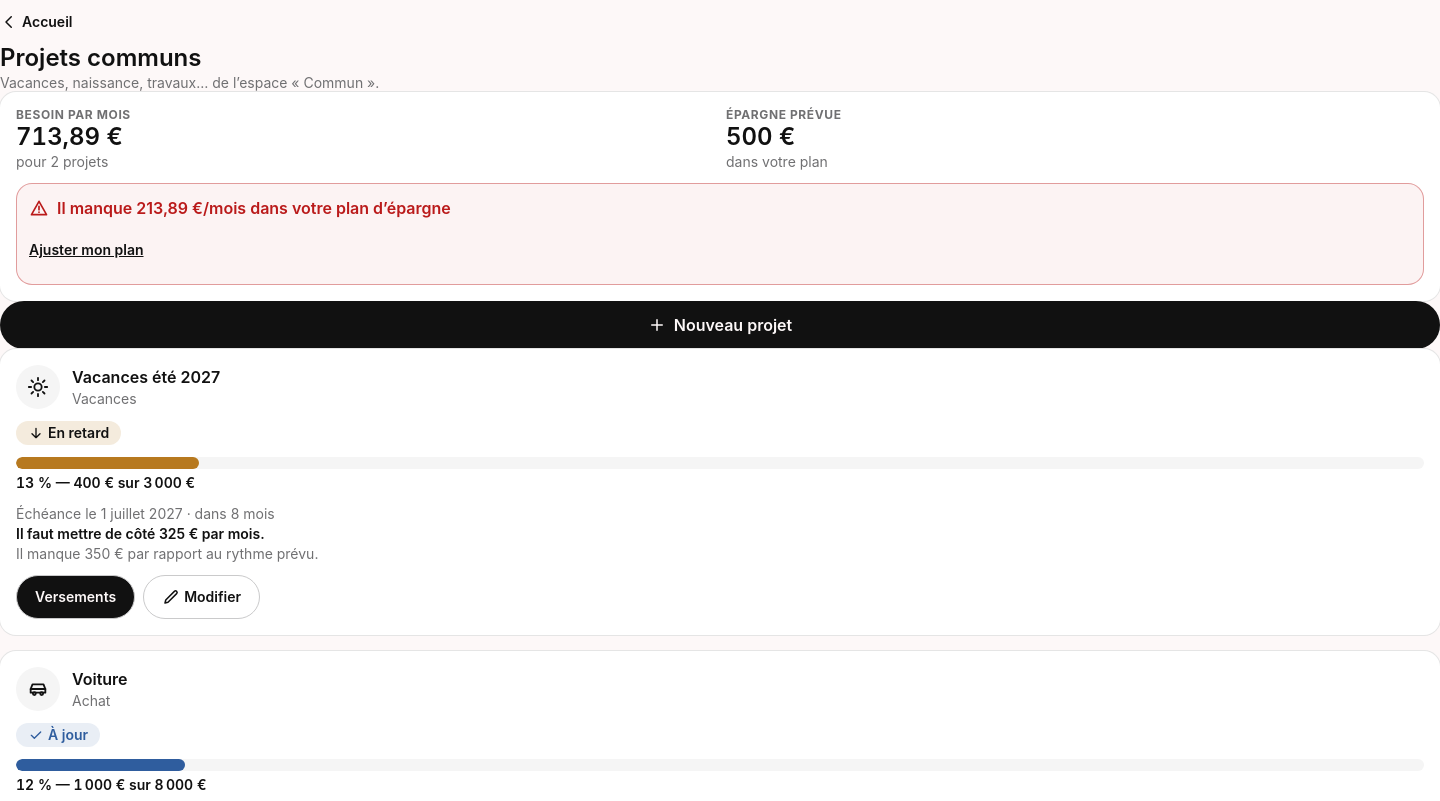
Test case: ProjetsPage › creation › lets you go back to change the template
What coordinates should you click on to do the following:
click the button "Nouveau projet"
I would click on:
 (720, 325)
Its box is [0, 301, 1439, 349].
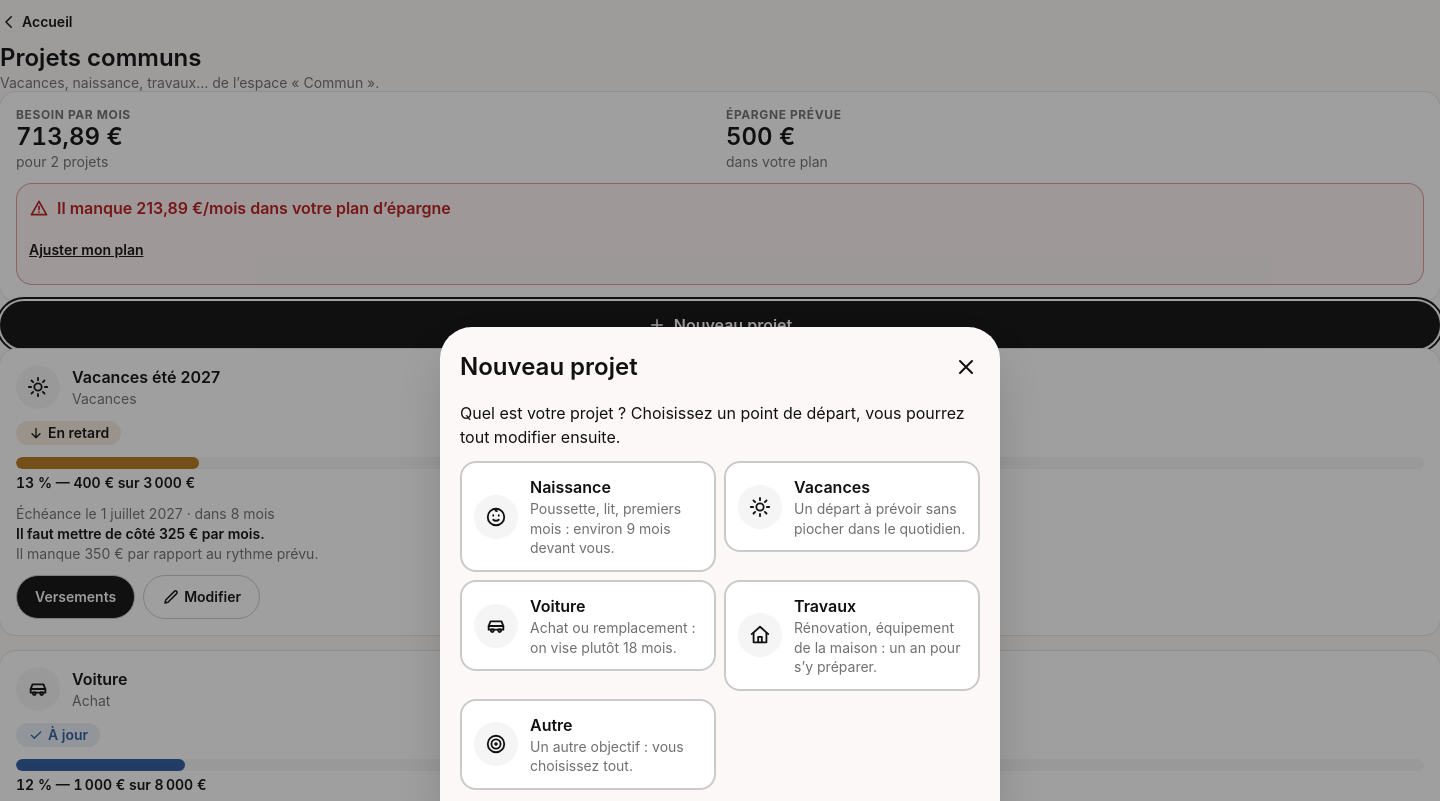
What coordinates should you click on to do the following:
click the button "Vacances Un départ à prévoir sans piocher dans le quotidien."
I would click on:
 (852, 507)
Its box is [724, 461, 980, 552].
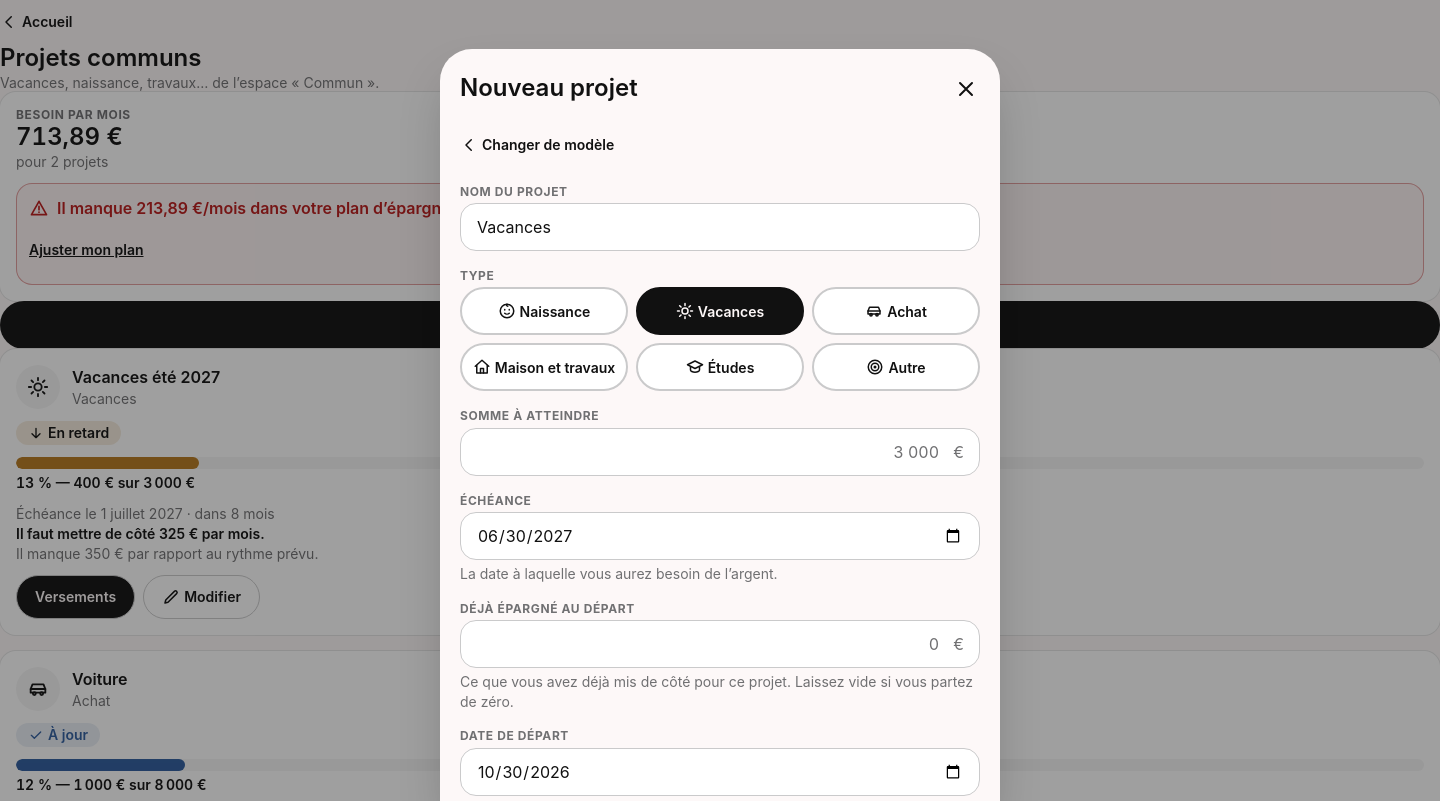
What coordinates should you click on to do the following:
click the button "Changer de modèle"
I would click on:
 (537, 145)
Its box is [452, 123, 622, 167].
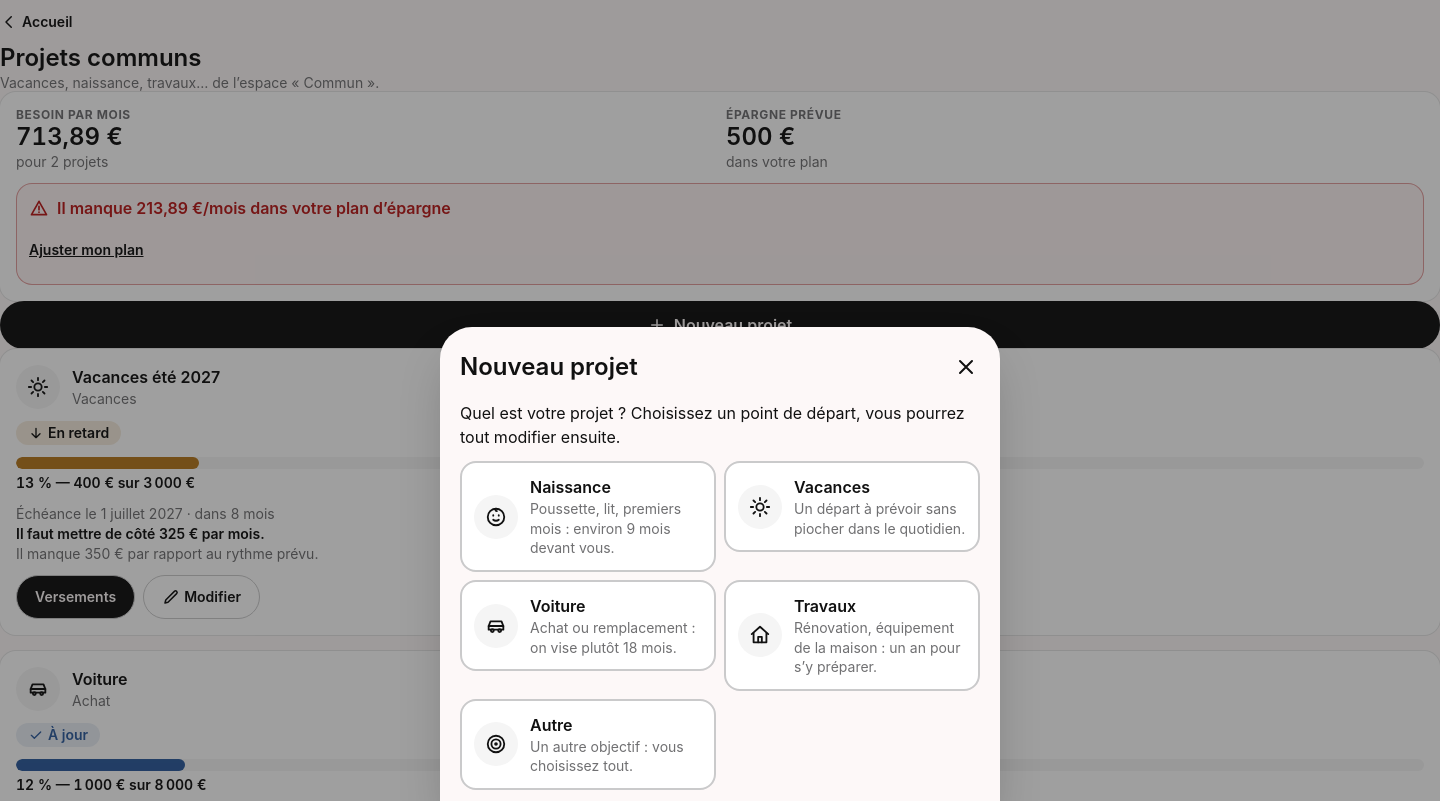
What coordinates should you click on to do the following:
click the button "Voiture Achat ou remplacement : on vise plutôt 18 mois."
I would click on:
 (588, 626)
Its box is [460, 580, 716, 671].
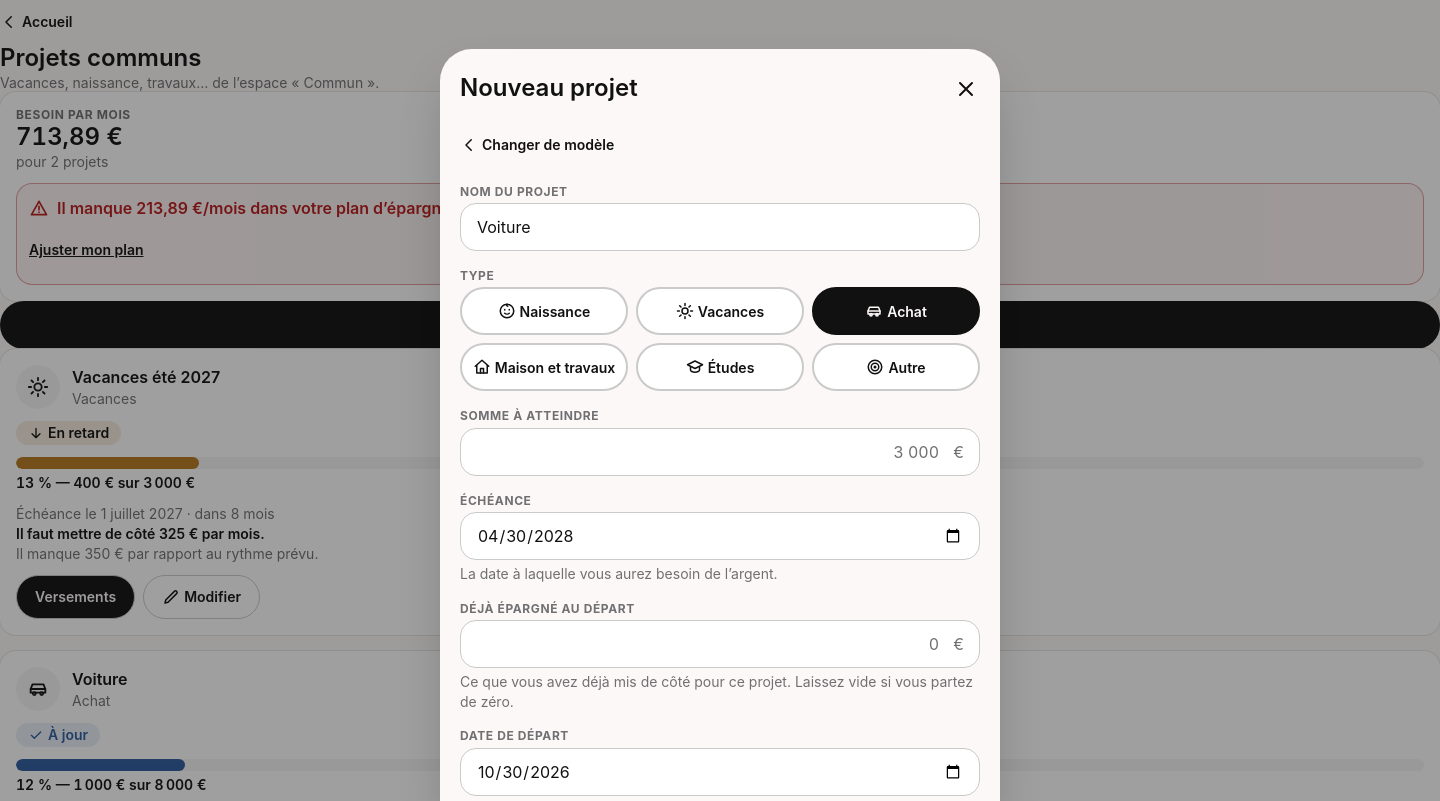
expect the field labelled "Nom du projet" holds "Voiture": met, box [460, 203, 980, 251]
